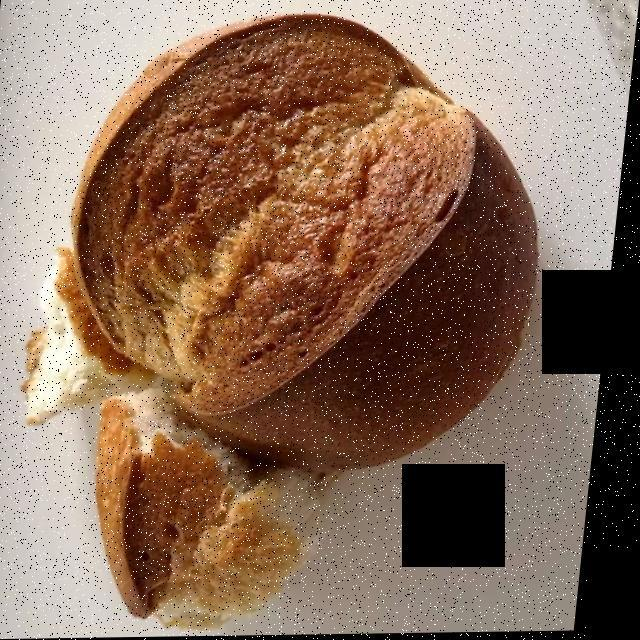bread: (29, 3, 551, 619)
